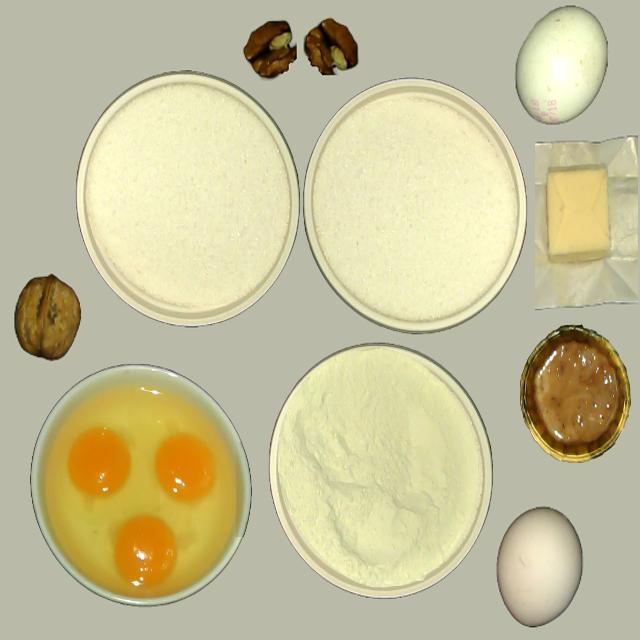Cocoa: (519, 323, 630, 462)
Egg: (496, 506, 582, 627)
Flour: (275, 345, 485, 589), (83, 80, 292, 313), (310, 91, 518, 322)
Milk: (43, 384, 237, 598)
Walnut: (13, 273, 80, 360), (303, 16, 358, 75), (242, 19, 297, 77)
